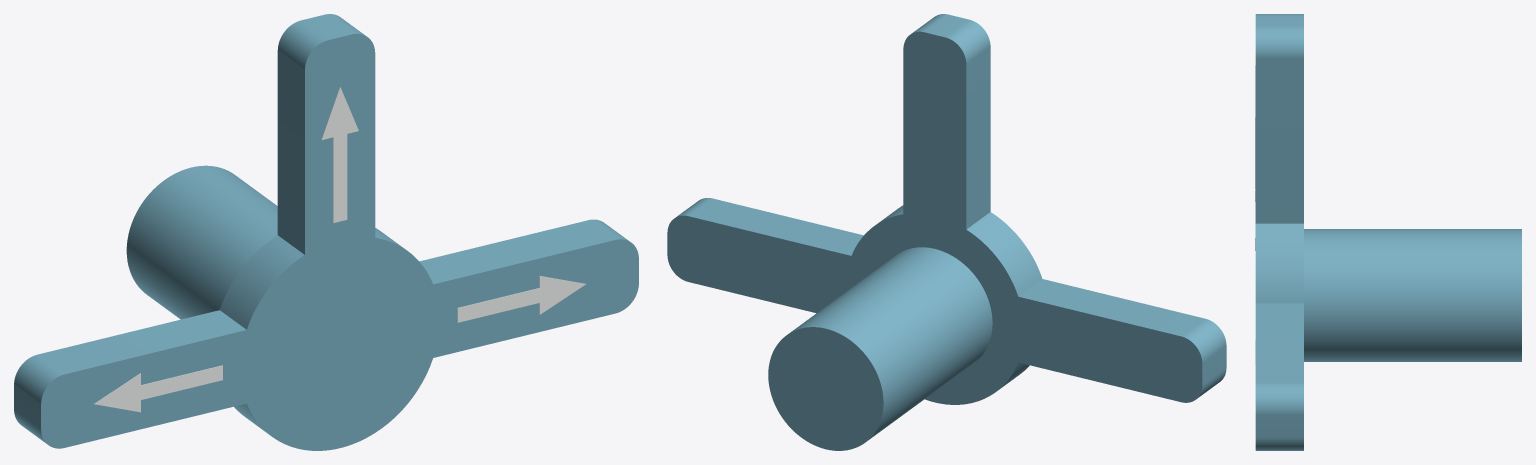
File: STOPCOCK.glb
3 views of the same model, side by side, from view 1: azimuth 30°, elevation 25°; view 2: azimuth 150°, elevation 25°; view 3: azimuth 270°, elevation 25° (orthographic). The views are drawn at different scales.
Parts seen in each view (by area): view 1: STOPCOCK/0000_independent_three_arm_stopcock_handle, STOPCOCK/0001_stopcock_rotating_spindle, STOPCOCK/label_rotating_flow_arrow_1, STOPCOCK/label_rotating_flow_arrow_0, STOPCOCK/label_rotating_flow_arrow_2; view 2: STOPCOCK/0000_independent_three_arm_stopcock_handle, STOPCOCK/0001_stopcock_rotating_spindle; view 3: STOPCOCK/0001_stopcock_rotating_spindle, STOPCOCK/0000_independent_three_arm_stopcock_handle.
Boxes of the visible parts, x1=… form: STOPCOCK/0000_independent_three_arm_stopcock_handle: x1=14, y1=14, x2=638, y2=450; STOPCOCK/0001_stopcock_rotating_spindle: x1=126, y1=165, x2=404, y2=412; STOPCOCK/label_rotating_flow_arrow_1: x1=321, y1=86, x2=358, y2=222; STOPCOCK/label_rotating_flow_arrow_0: x1=457, y1=276, x2=585, y2=322; STOPCOCK/label_rotating_flow_arrow_2: x1=94, y1=365, x2=222, y2=412; STOPCOCK/0000_independent_three_arm_stopcock_handle: x1=667, y1=14, x2=1226, y2=404; STOPCOCK/0001_stopcock_rotating_spindle: x1=768, y1=247, x2=992, y2=450; STOPCOCK/0001_stopcock_rotating_spindle: x1=1304, y1=229, x2=1521, y2=361; STOPCOCK/0000_independent_three_arm_stopcock_handle: x1=1255, y1=14, x2=1303, y2=450.
Bounding box in the file's own units: 0.051 × 0.0335 × 0.022.
